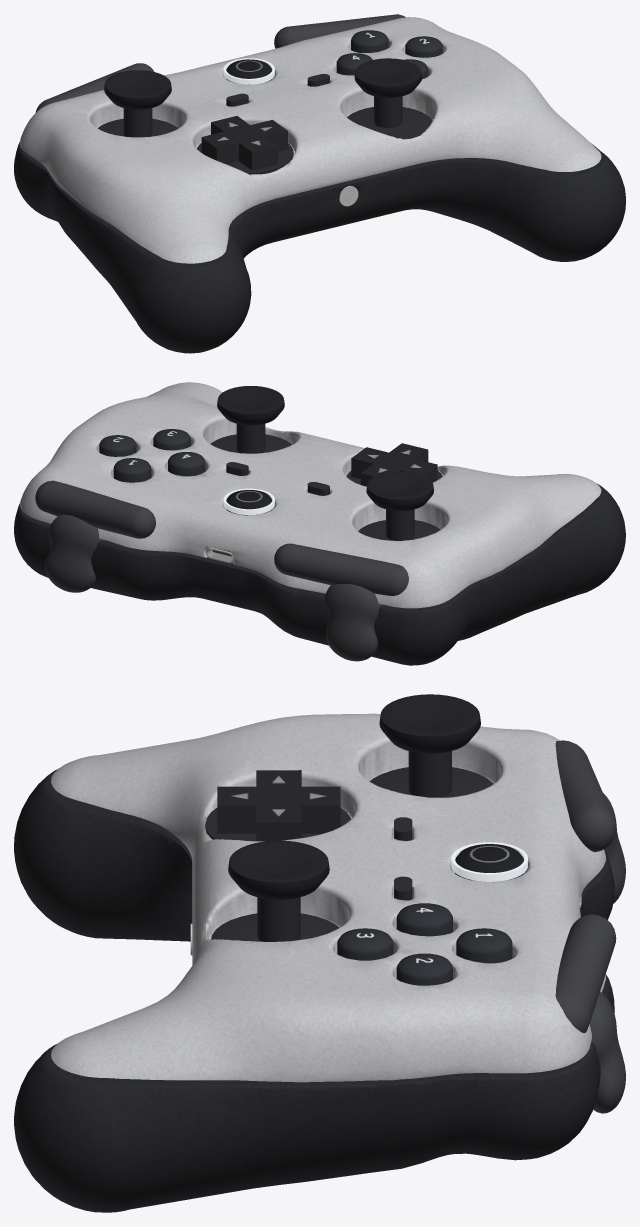
The model's file is gamepad-controller.glb.
3 renders of one model, top to bottom at view 1: azimuth 30°, elevation 25°; view 2: azimuth 150°, elevation 25°; view 3: azimuth 270°, elevation 25°, orthographic. The views are drawn at different scales.
Visible parts, largest first — view 1: Upper shell, Lower shell with stippled grips, Thumbstick caps, Thumbstick shafts and wells, Direction pad, Face buttons, Bumper, right, Home and menu buttons, Bumper, left, Direction pad well, Home button light ring; view 2: Upper shell, Lower shell with stippled grips, Thumbstick caps, Bumper, left, Bumper, right, Trigger, left, Trigger, right, Thumbstick shafts and wells, Face buttons, Direction pad, Home and menu buttons, Home button light ring; view 3: Upper shell, Lower shell with stippled grips, Thumbstick caps, Thumbstick shafts and wells, Direction pad, Face buttons, Bumper, right, Bumper, left, Trigger, right, Home and menu buttons, Home button light ring, Trigger, left (+1 smaller).
Boxes of the visible parts, bbox=[...] form: Upper shell: bbox=[20, 17, 601, 263]; Lower shell with stippled grips: bbox=[14, 142, 625, 353]; Thumbstick caps: bbox=[104, 58, 422, 109]; Thumbstick shafts and wells: bbox=[97, 96, 432, 139]; Direction pad: bbox=[201, 116, 287, 170]; Face buttons: bbox=[336, 30, 442, 78]; Bumper, right: bbox=[274, 14, 405, 48]; Home and menu buttons: bbox=[226, 59, 329, 106]; Bumper, left: bbox=[35, 63, 153, 112]; Direction pad well: bbox=[196, 143, 293, 174]; Home button light ring: bbox=[223, 58, 274, 84]; Upper shell: bbox=[20, 382, 601, 608]; Lower shell with stippled grips: bbox=[14, 392, 625, 665]; Thumbstick caps: bbox=[217, 386, 433, 511]; Bumper, left: bbox=[274, 543, 408, 595]; Bumper, right: bbox=[35, 480, 155, 538]; Trigger, left: bbox=[324, 583, 381, 661]; Trigger, right: bbox=[45, 514, 103, 592]; Thumbstick shafts and wells: bbox=[210, 424, 440, 540]; Face buttons: bbox=[99, 429, 205, 482]; Direction pad: bbox=[351, 443, 437, 486]; Home and menu buttons: bbox=[226, 462, 329, 515]; Home button light ring: bbox=[223, 488, 274, 514]; Upper shell: bbox=[51, 713, 605, 1082]; Lower shell with stippled grips: bbox=[14, 768, 614, 1212]; Thumbstick caps: bbox=[228, 694, 480, 899]; Thumbstick shafts and wells: bbox=[211, 751, 493, 941]; Direction pad: bbox=[217, 770, 340, 841]; Face buttons: bbox=[337, 903, 512, 985]; Bumper, right: bbox=[555, 914, 616, 1032]; Bumper, left: bbox=[555, 740, 616, 852]; Trigger, right: bbox=[589, 991, 625, 1113]; Home and menu buttons: bbox=[394, 817, 524, 900]; Home button light ring: bbox=[451, 842, 527, 881]; Trigger, left: bbox=[603, 793, 625, 903].
Size of the model in its own units: 0.154 by 0.0524 by 0.1132.
Materials: 11 (11 with a texture image).
